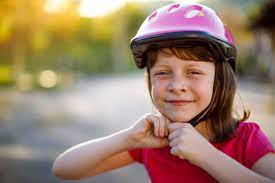helmets: (126, 0, 237, 72)
